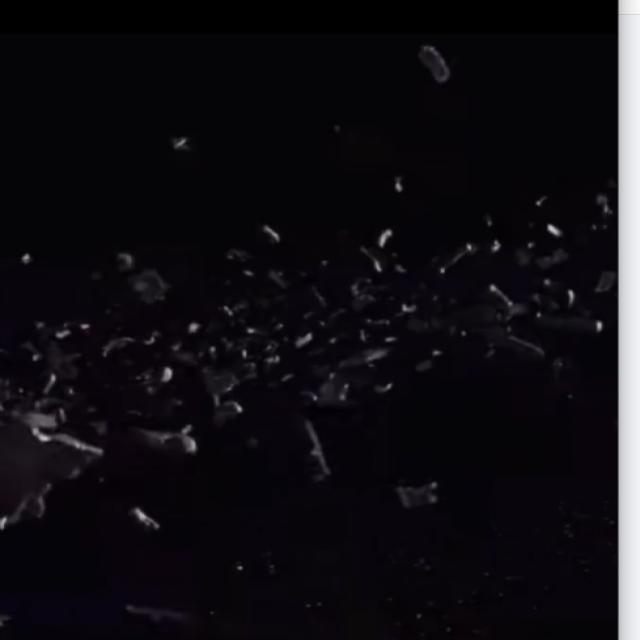large_debris: (0, 386, 100, 544), (103, 243, 176, 310), (125, 412, 202, 465), (407, 43, 472, 95), (378, 472, 452, 517), (118, 492, 167, 542)
